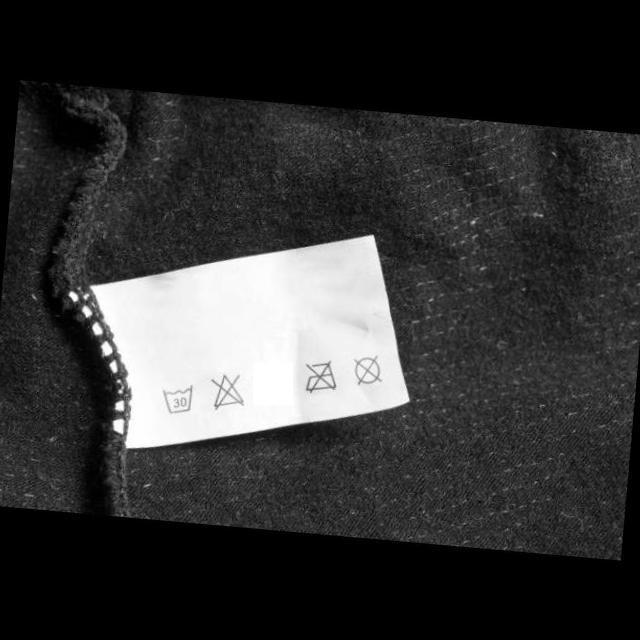30C: (158, 380, 194, 418)
DN_bleach: (207, 368, 250, 414)
DN_dry_clean: (348, 352, 386, 392)
DN_iron: (300, 356, 340, 396)
